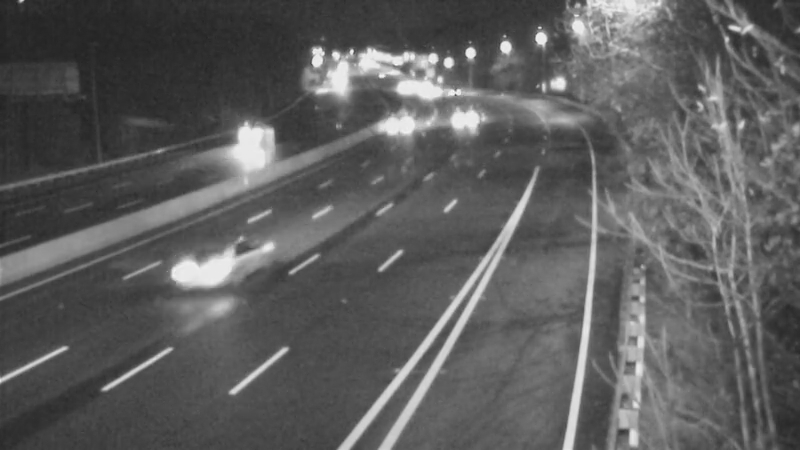vehicle: (158, 234, 238, 314), (431, 71, 481, 121), (440, 91, 490, 141), (377, 97, 427, 147), (218, 109, 268, 159)
